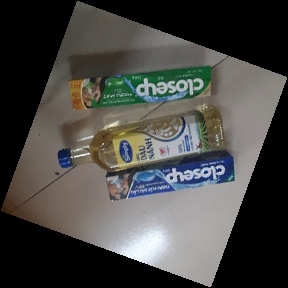CloseUp Tuyet: (104, 150, 235, 200)
CloseUp Xanh: (66, 65, 213, 109)
Simply: (59, 108, 226, 165)
